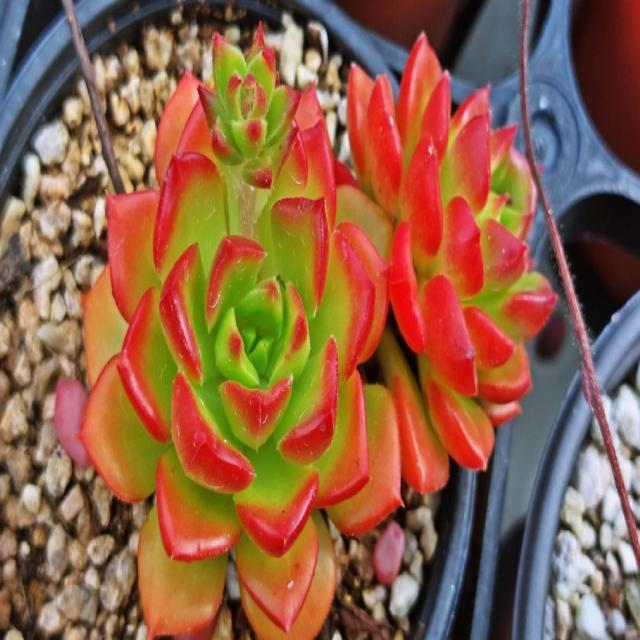Letizia: (81, 27, 400, 637), (338, 36, 556, 493)
